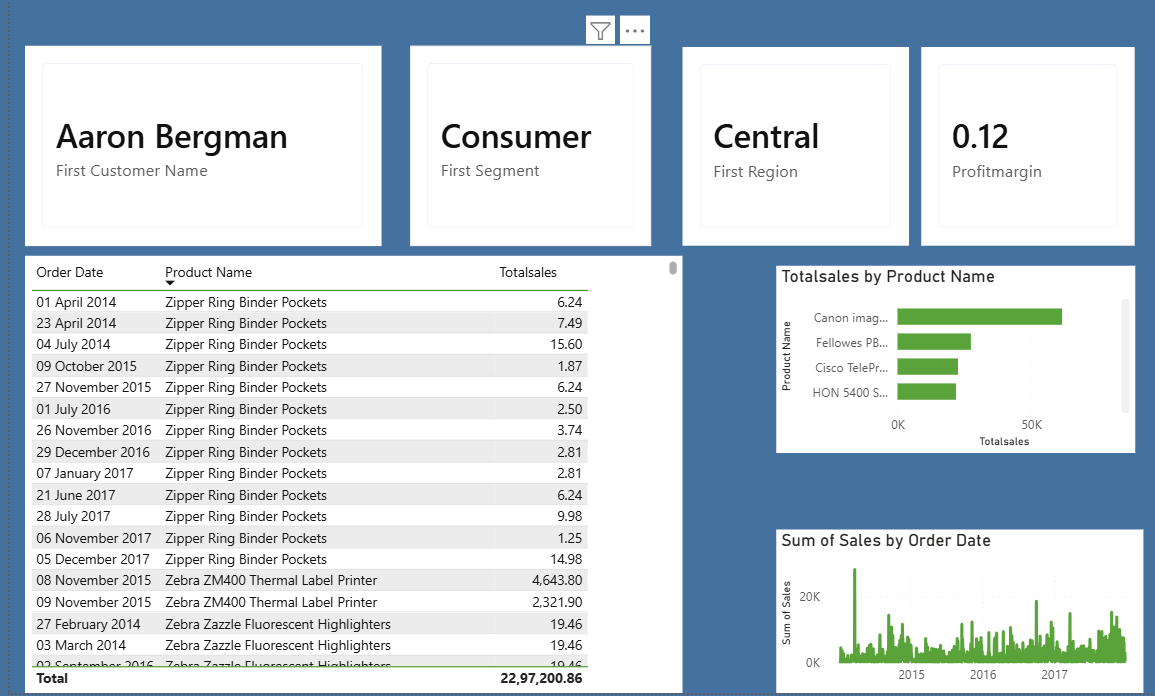

What the dashboard file says about the page in this screenshot:
{"tool":"powerbi","page":{"name":"Customer ","canvas":[1280,720],"ordinal":2},"visuals":[{"type":"actionButton","box":[0,0,100,40],"z":0},{"type":"cardVisual","fields":{"Data":["Min(Sales.Customer Name)"]},"box":[14.7,86.8,348.5,195.7],"z":1000},{"type":"lineChart","fields":{"Category":["Sales.Order Date"],"Y":["Sum(Sales.Sales)"]},"box":[749.6,560.1,359.5,160.2],"z":2000},{"type":"cardVisual","fields":{"Data":["Sales.Profitmargin"]},"box":[891.4,86.8,209.1,194.4],"z":3000},{"type":"barChart","fields":{"Category":["Sales.Product Name"],"Y":["Sales.Totalsales"]},"box":[749.6,302,351,183.4],"z":4000},{"type":"tableEx","fields":{"Values":["Sales.Order Date","Sales.Product Name","Sales.Totalsales"]},"box":[14.7,292.3,643.2,428],"z":5000},{"type":"cardVisual","fields":{"Data":["Min(Sales.Segment)"]},"box":[391.3,86.8,236,195.7],"z":6000},{"type":"cardVisual","fields":{"Data":["Min(Sales.Region)"]},"box":[648.1,86.8,221.3,194.4],"z":7000}]}

Visuals, with their boxes on the page's 1280x720 design canvas (x1, y1, x2, y2). These are canvas units, not pixel positions in the 1155x696 screenshot, which may show the page scaled, cropped or inside an application window:
actionButton: <bbox>0, 0, 100, 40</bbox>
cardVisual - Min(Sales.Customer Name): <bbox>15, 87, 363, 282</bbox>
lineChart - Sales.Order Date x Sum(Sales.Sales): <bbox>750, 560, 1109, 720</bbox>
cardVisual - Sales.Profitmargin: <bbox>891, 87, 1100, 281</bbox>
barChart - Sales.Product Name x Sales.Totalsales: <bbox>750, 302, 1101, 485</bbox>
tableEx - Sales.Order Date x Sales.Product Name: <bbox>15, 292, 658, 720</bbox>
cardVisual - Min(Sales.Segment): <bbox>391, 87, 627, 282</bbox>
cardVisual - Min(Sales.Region): <bbox>648, 87, 869, 281</bbox>
